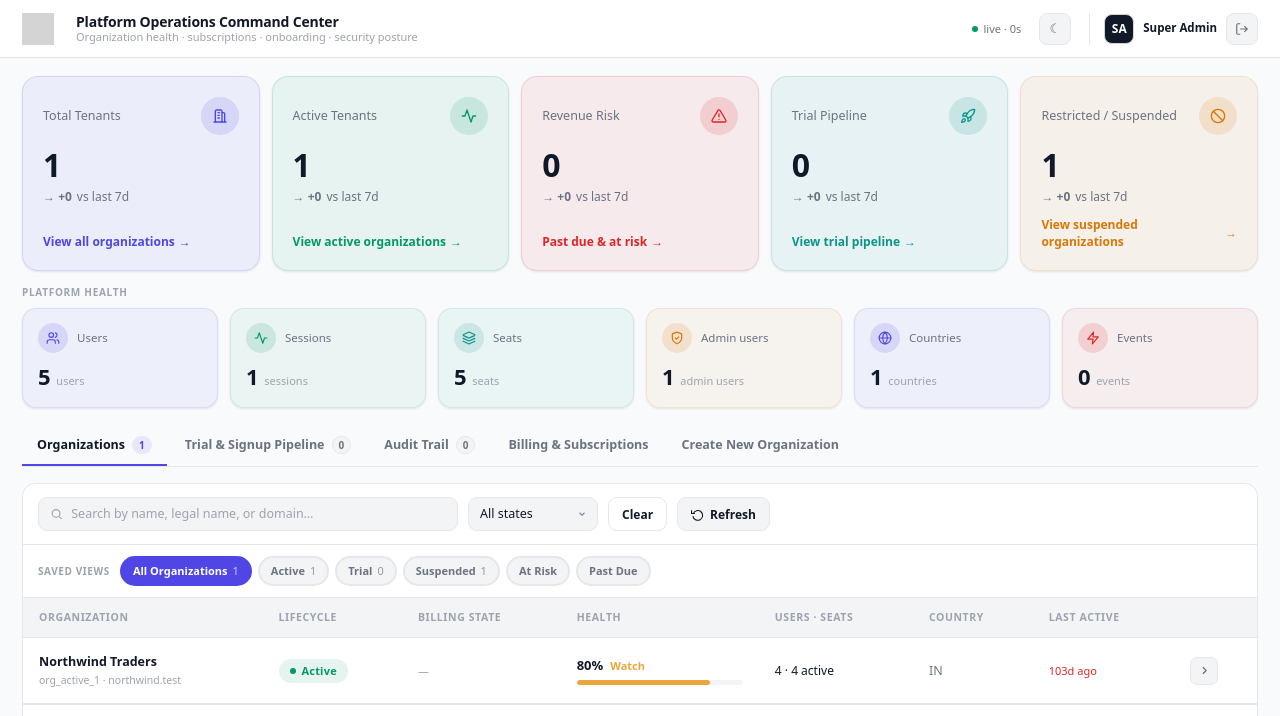
Test: lifecycle actions offered per state › an ACTIVE organization offers Suspend and never Delete
Click the text "Northwind Traders".
click(98, 662)  # box x1=39 y1=653 x2=157 y2=670
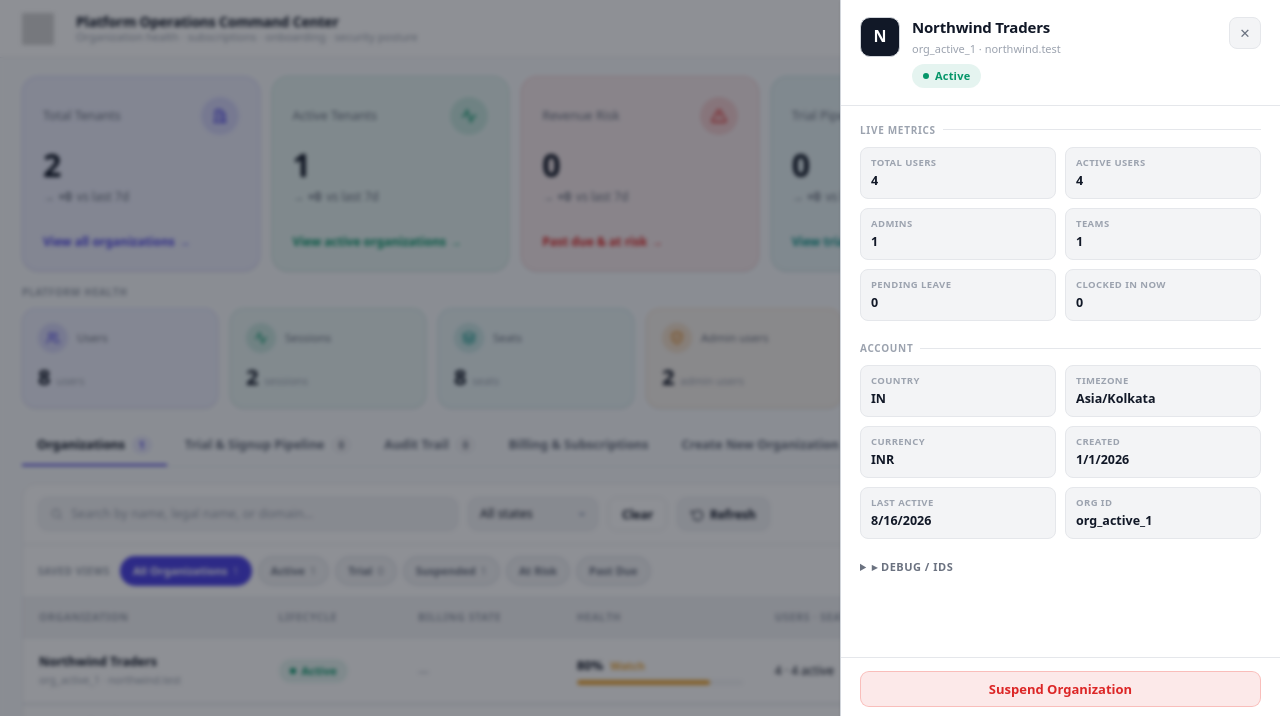
Result: the button "Suspend Organization" is shown at x1=860 y1=671 x2=1261 y2=707
